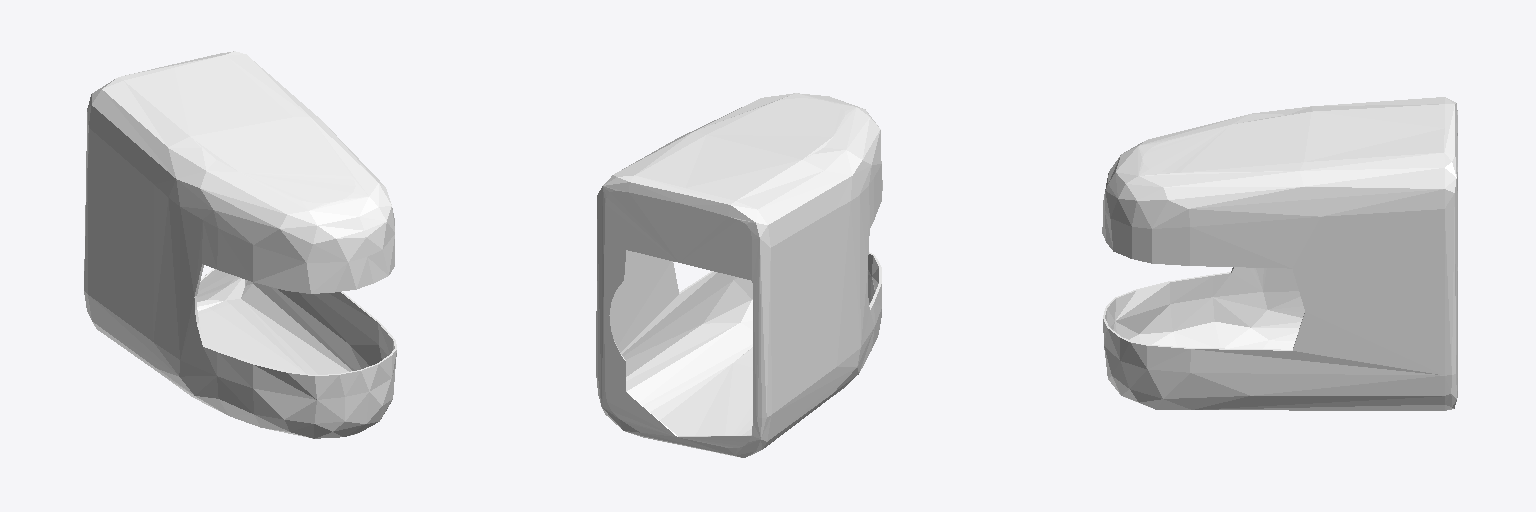
The picture shows the model from 3 angles: view 1: azimuth 30°, elevation 25°; view 2: azimuth 150°, elevation 25°; view 3: azimuth 270°, elevation 25°; orthographic projection.
Visible parts, largest first — view 1: Arm_Roll_Arm_Roll.003; view 2: Arm_Roll_Arm_Roll.003; view 3: Arm_Roll_Arm_Roll.003.
Boxes of the visible parts, x1=… form: Arm_Roll_Arm_Roll.003: x1=84, y1=51, x2=396, y2=438; Arm_Roll_Arm_Roll.003: x1=596, y1=93, x2=882, y2=457; Arm_Roll_Arm_Roll.003: x1=1102, y1=97, x2=1457, y2=410.
Bounding box in the file's own units: 0.0765 × 0.109 × 0.1367.
1 materials, 1 textured.